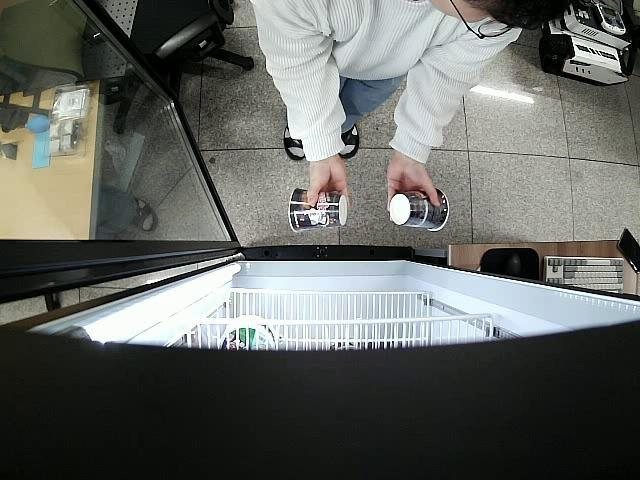08_buldak_S: (288, 186, 350, 234), (390, 186, 450, 234)
